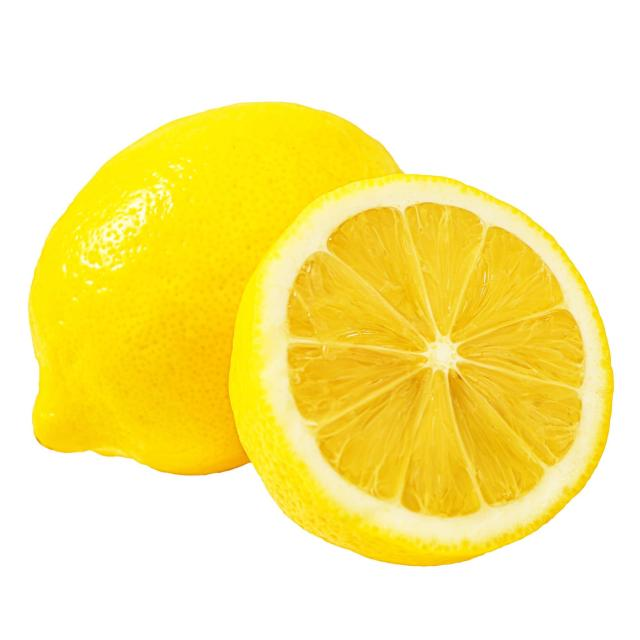lemon: (210, 164, 633, 574), (25, 92, 438, 491)
